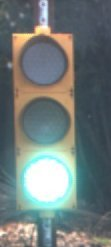Green: (6, 25, 97, 227)
